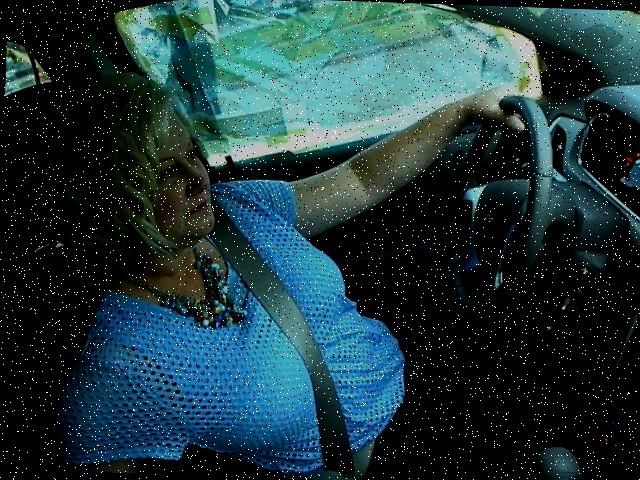c5 - Reaching Behind: (12, 53, 573, 429)
